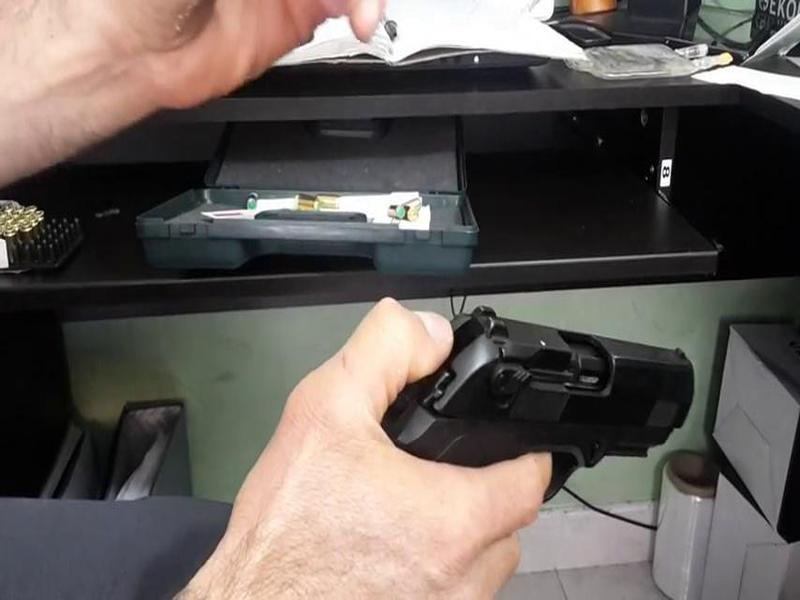Pistola: (360, 281, 709, 528)
